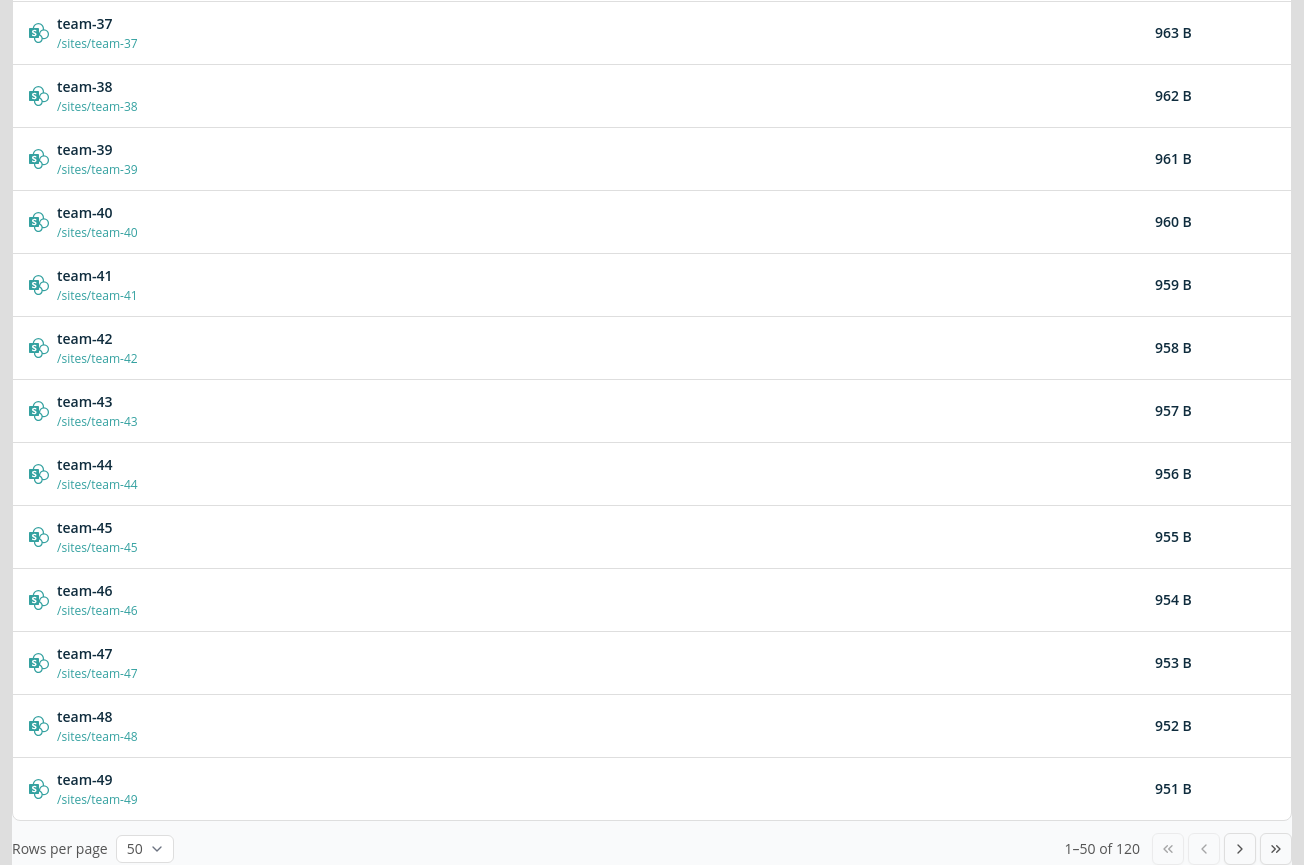
Test case: SiteTable › pagination › pages forward, to the end, and back to the start
This screenshot has width=1304, height=865.
(page scrolled)
Click the button named "Next page" at (1240, 849), box [1224,833,1256,864]
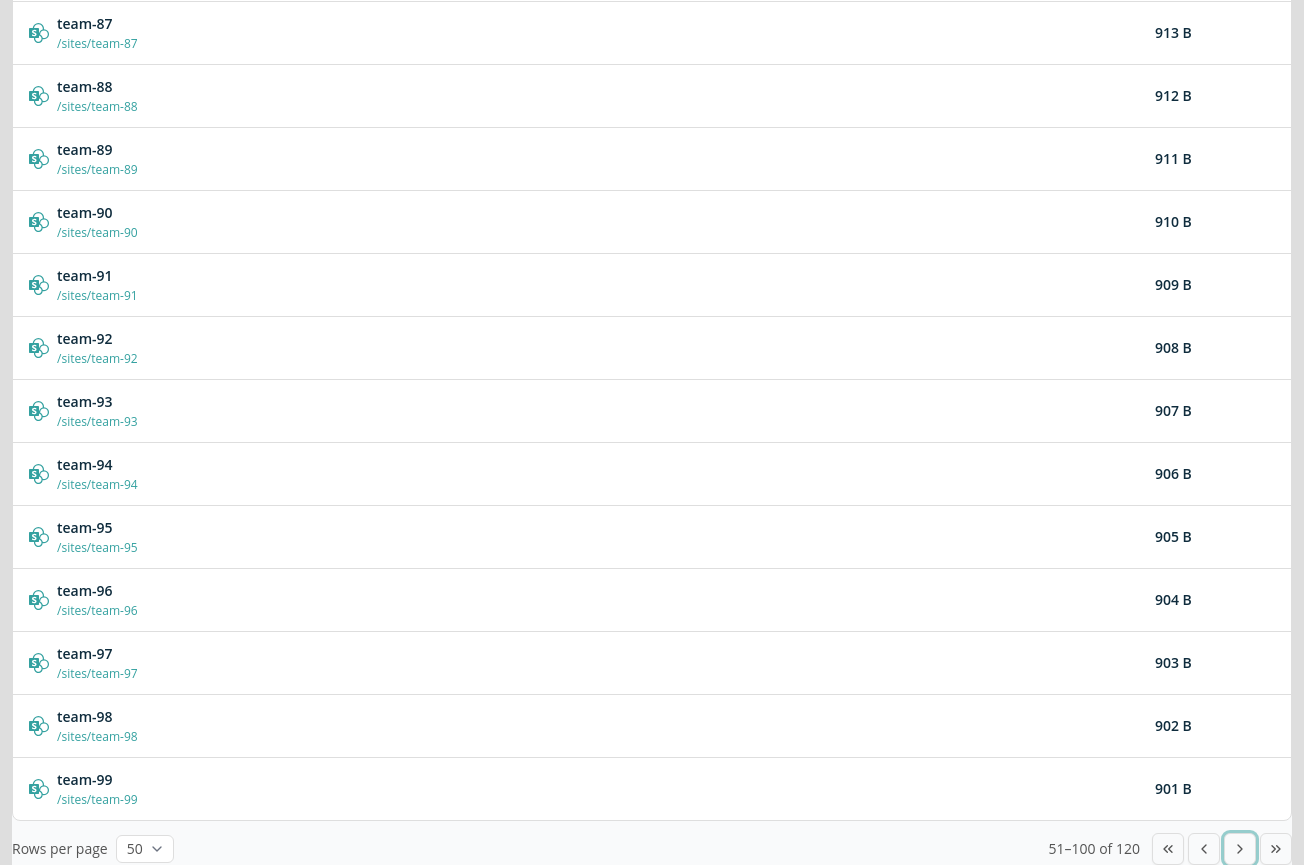
Expected: the text "51–100 of 120" is shown, [1048,839,1140,859]
Click the button named "Last page" at (1276, 849), box [1260,833,1292,864]
(page scrolled)
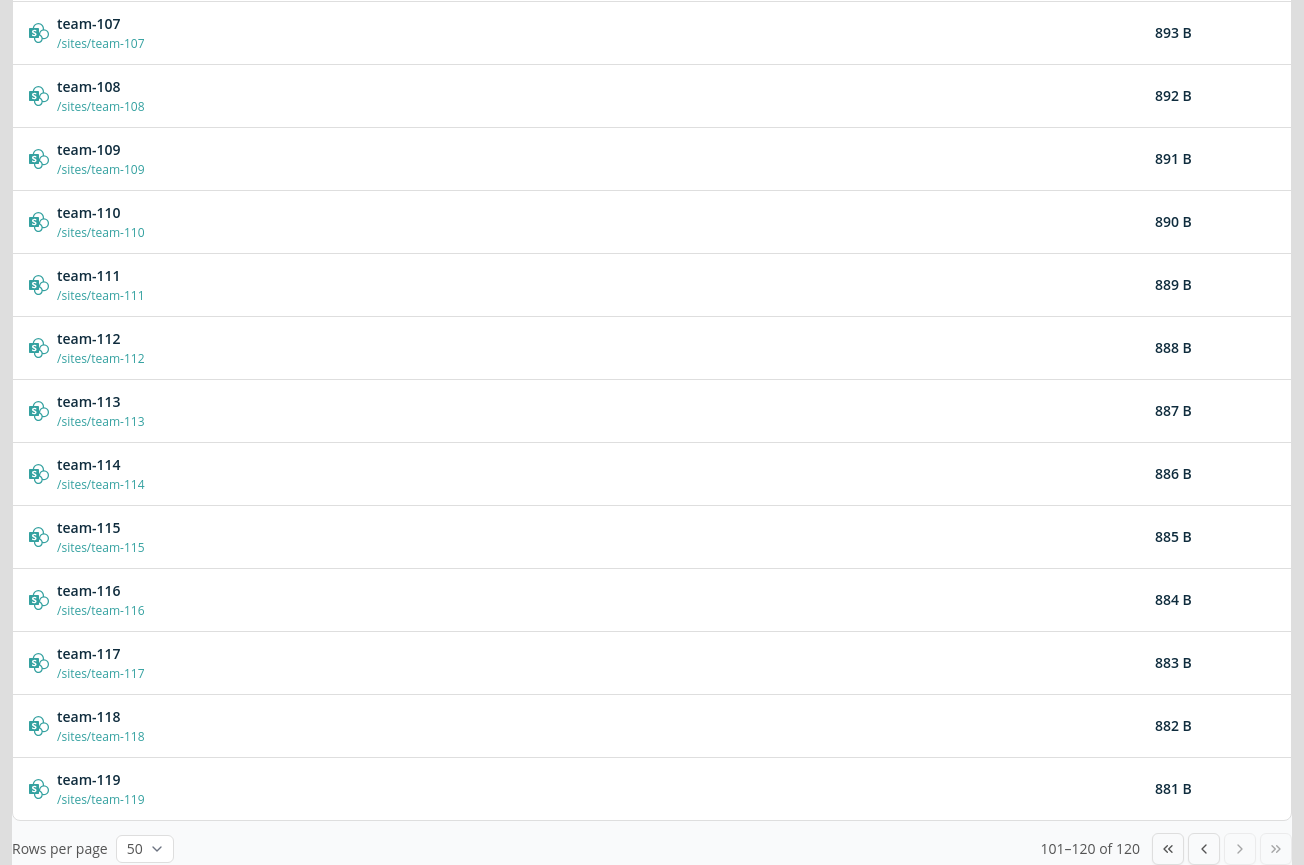
Expected: the button named "Next page" is disabled, [1224,833,1256,864]
Expected: the text "101–120 of 120" is shown, [1040,839,1140,859]
Click the button named "First page" at (1168, 849), box [1152,833,1184,864]
(page scrolled)
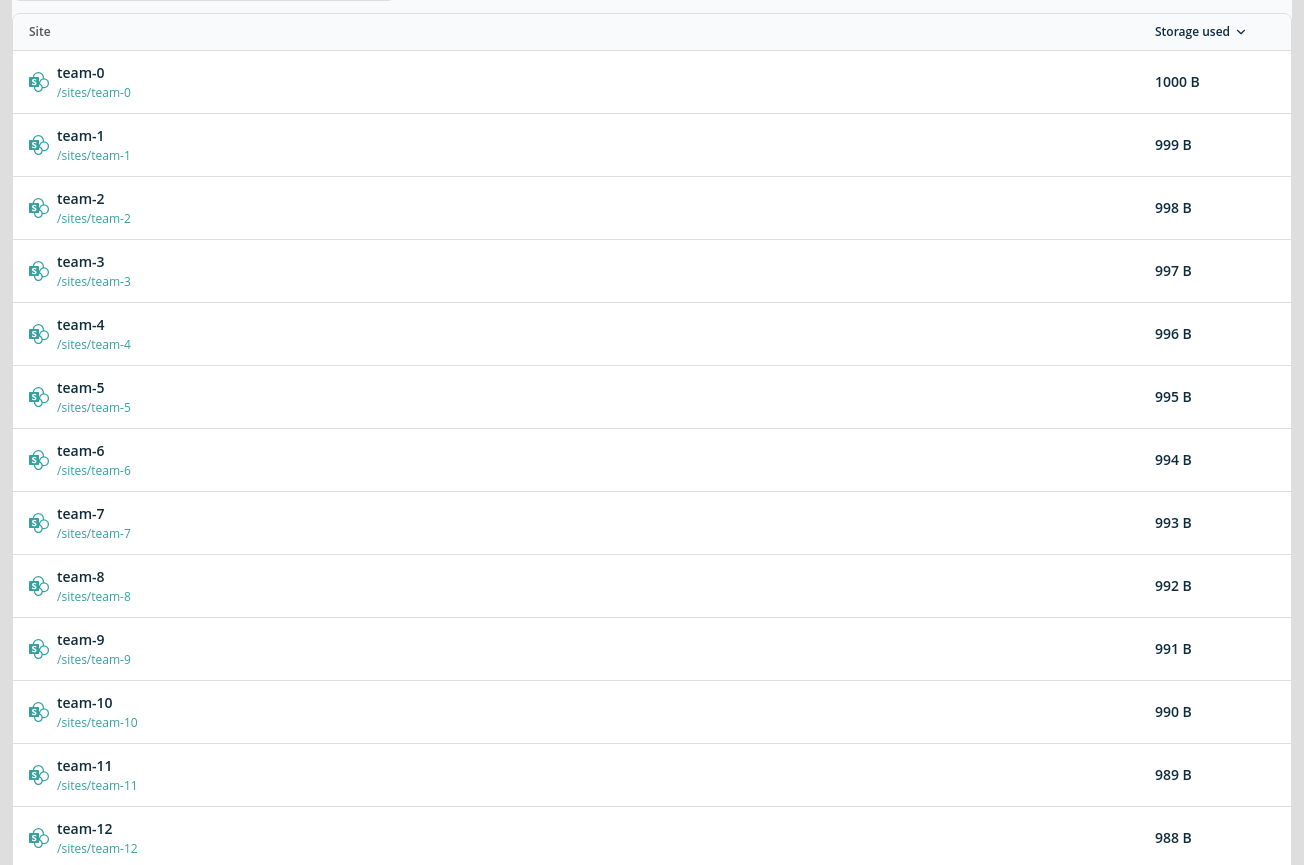
Expected: the cell "team-0 /sites/team-0" is shown, [29,63,131,101]
